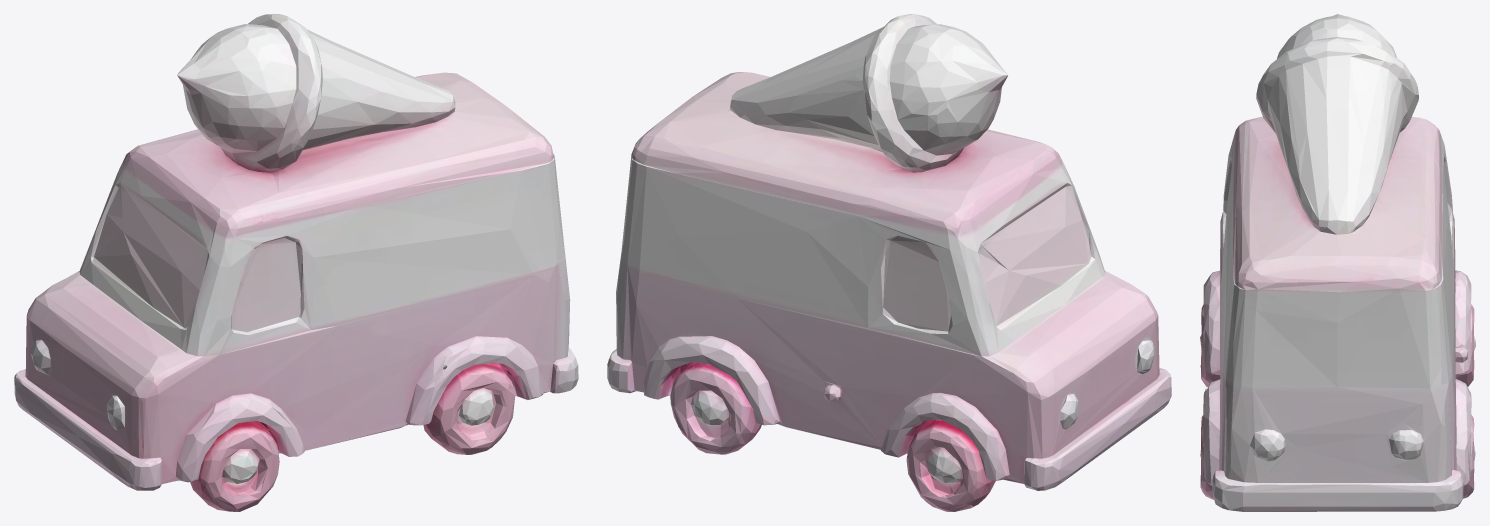
Rendered from car-ice.glb.
3 views of the same model, side by side, from view 1: azimuth 30°, elevation 25°; view 2: azimuth 150°, elevation 25°; view 3: azimuth 270°, elevation 25° (orthographic). The views are drawn at different scales.
Visible parts, largest first — view 1: geometry_0; view 2: geometry_0; view 3: geometry_0.
Boxes of the visible parts, box(x1,y1,x2,y2) form: geometry_0: box(14, 14, 578, 511); geometry_0: box(607, 14, 1171, 511); geometry_0: box(1200, 14, 1475, 511).
Bounding box in the file's own units: 0.9878 × 0.8571 × 0.5325.
1 material, 1 textured.
